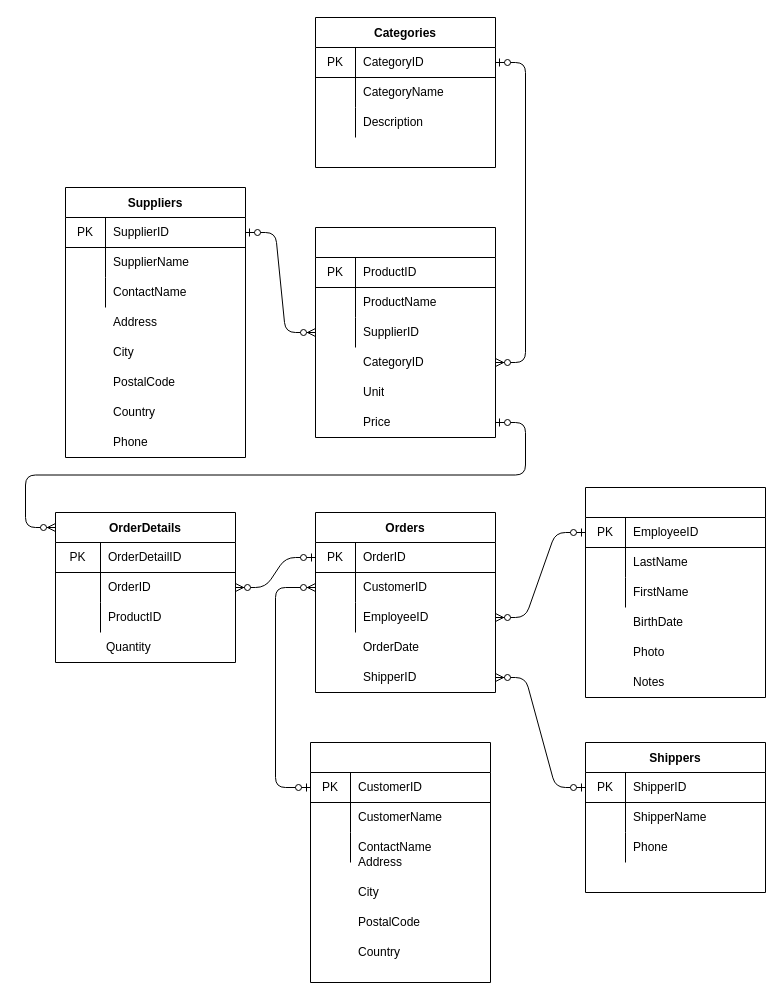
Image size: 783x1000. Some labels were removed from this diagram. Here are the shapes that lost their labels. From the top down, the box of each, then its label:
(314, 226, 496, 438): Products
(584, 486, 766, 698): Employees
(310, 742, 490, 982): Customers
